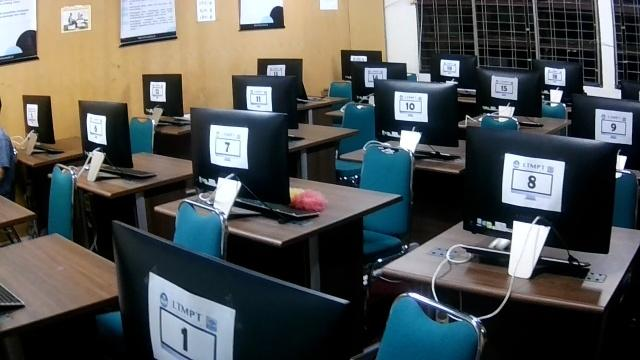AIO PC-Monitor-TV: (463, 125, 618, 278), (187, 105, 290, 220), (372, 77, 458, 156), (76, 98, 134, 182)
Kursi: (358, 143, 413, 268)
Meja: (379, 220, 639, 313), (151, 175, 404, 254), (43, 147, 192, 198)
